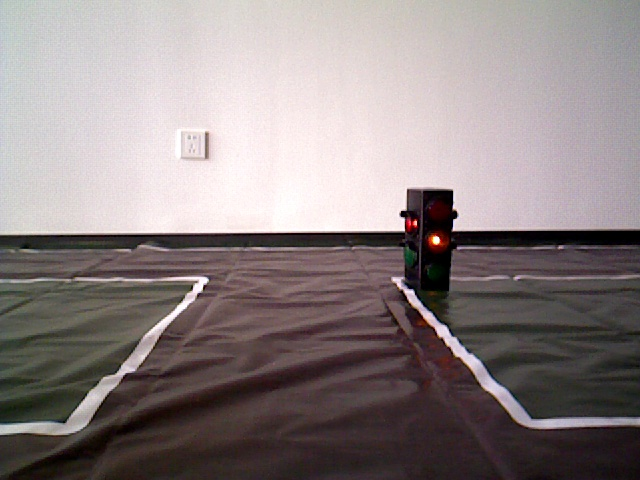yellow: (404, 183, 456, 295)
